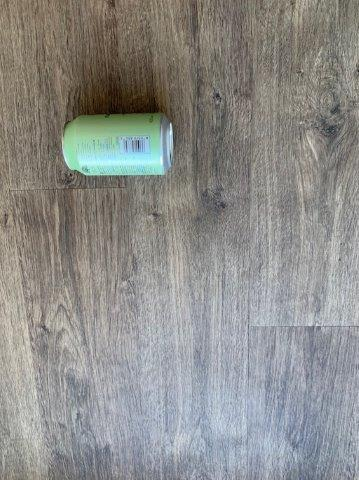kaleng: (64, 114, 174, 175)
